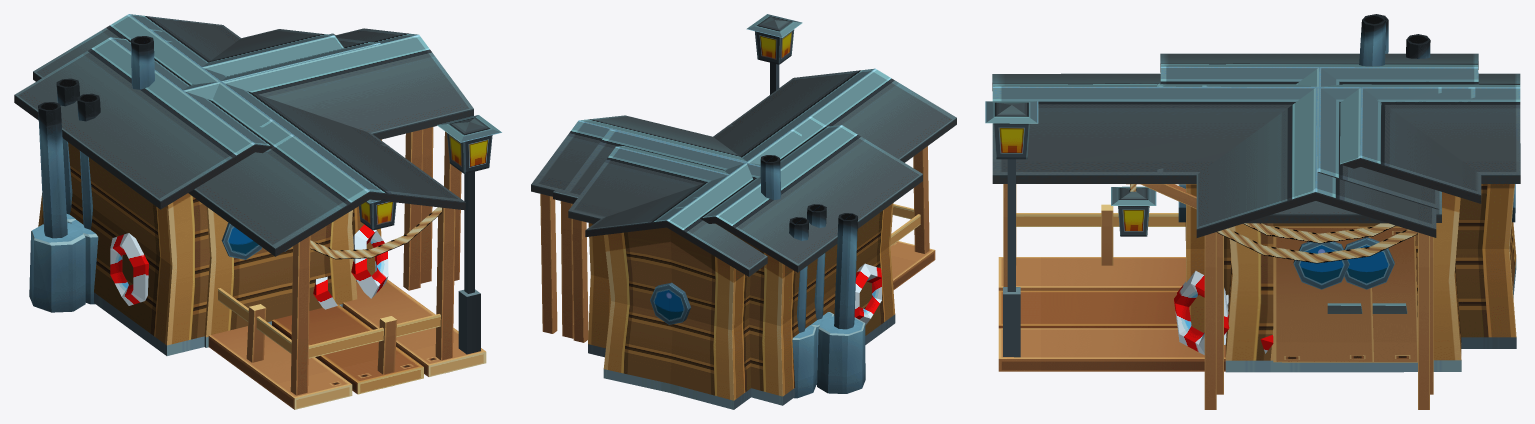
File: pier_buildings.fbx
3 renders of one model, left to right at view 1: azimuth 30°, elevation 25°; view 2: azimuth 150°, elevation 25°; view 3: azimuth 270°, elevation 25°, orthographic. The views are drawn at different scales.
Parts seen in each view (by area): view 1: pier_building_04, pier_building_06, pier_building_05, pier_building_03, pier_building_02; view 2: pier_building_03, pier_building_04, pier_building_06, pier_building_05, pier_building_02; view 3: pier_building_06, pier_building_05, pier_building_03, pier_building_04, pier_building_02.
Boxes of the visible parts, left/top/right/bottom form: pier_building_04: left=14, top=37, right=423, bottom=355; pier_building_06: left=77, top=30, right=492, bottom=409; pier_building_05: left=70, top=28, right=501, bottom=409; pier_building_03: left=33, top=14, right=343, bottom=222; pier_building_02: left=131, top=33, right=433, bottom=283; pier_building_03: left=568, top=129, right=816, bottom=409; pier_building_04: left=562, top=125, right=922, bottom=405; pier_building_06: left=531, top=29, right=956, bottom=376; pier_building_05: left=531, top=14, right=934, bottom=384; pier_building_02: left=553, top=129, right=801, bottom=338; pier_building_06: left=992, top=73, right=1472, bottom=409; pier_building_05: left=985, top=45, right=1475, bottom=372; pier_building_03: left=1204, top=34, right=1520, bottom=372; pier_building_04: left=1111, top=14, right=1478, bottom=304; pier_building_02: left=1202, top=14, right=1441, bottom=394.
Size of the model in its own units: 10.59 by 6.83 by 12.57.
